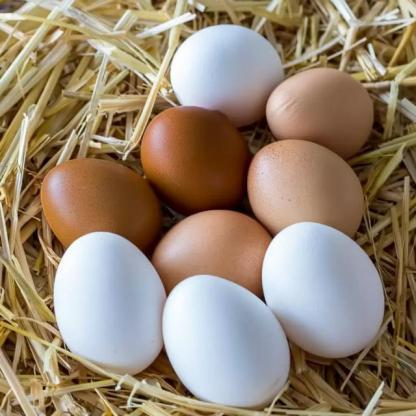egg: (263, 214, 405, 374), (156, 261, 310, 407), (44, 220, 168, 400), (130, 76, 266, 214), (15, 134, 170, 254), (245, 134, 402, 249), (160, 8, 290, 123), (241, 50, 385, 153), (150, 204, 283, 301)
